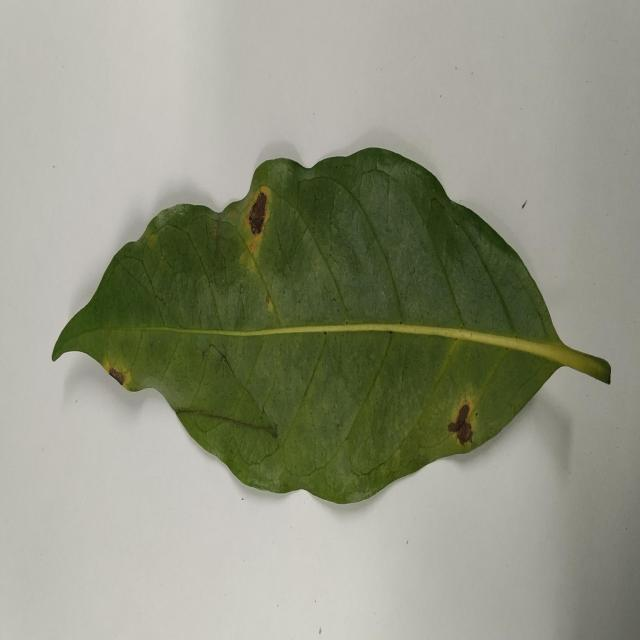Enfermedad-Mancha-de-hierro: (50, 146, 612, 508)
